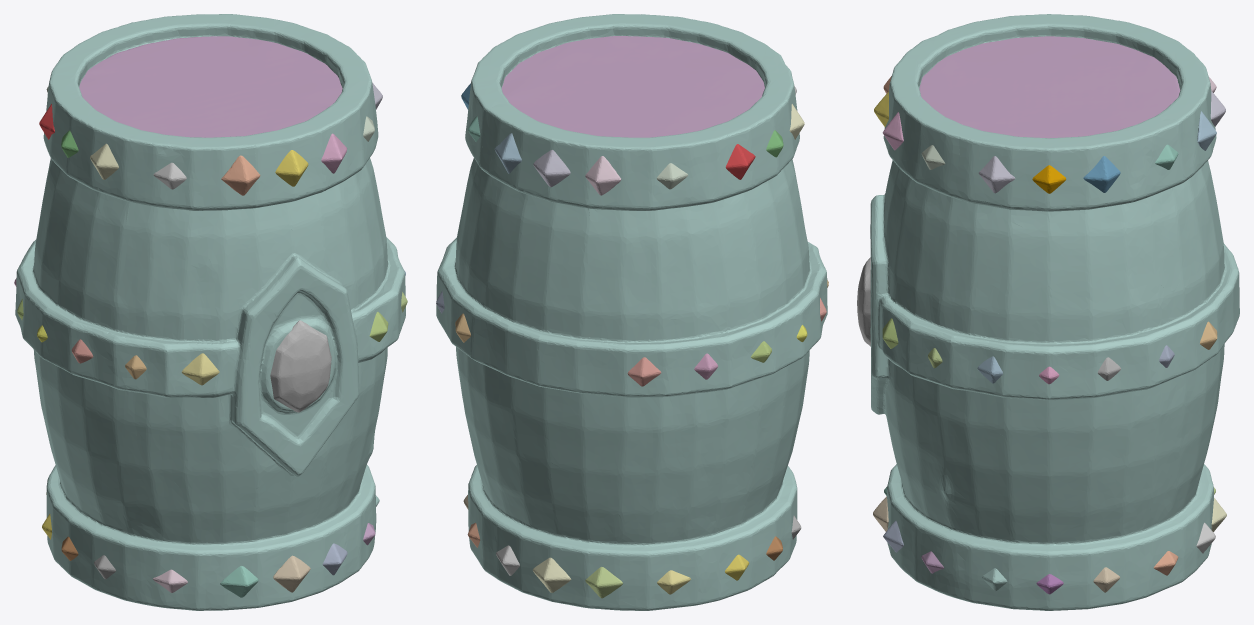
File: barrel.glb
3 renders of one model, left to right at view 1: azimuth 30°, elevation 25°; view 2: azimuth 150°, elevation 25°; view 3: azimuth 270°, elevation 25°, orthographic.
Parts seen in each view (by area): view 1: barrel_1.obj, barrel_1.obj_9, barrel_1.obj_48, barrel_1.obj_42, barrel_1.obj_47, barrel_1.obj_46, barrel_1.obj_41, barrel_1.obj_40, barrel_1.obj_30, barrel_1.obj_44, barrel_1.obj_37; view 2: barrel_1.obj, barrel_1.obj_9, barrel_1.obj_2, barrel_1.obj_7, barrel_1.obj_1, barrel_1.obj_6, barrel_1.obj_20, barrel_1.obj_4, barrel_1.obj_3; view 3: barrel_1.obj, barrel_1.obj_9, barrel_1.obj_48, barrel_1.obj_21, barrel_1.obj_31, barrel_1.obj_24.
Boxes of the visible parts, box(x1,y1,x2,y2) form: barrel_1.obj: box(15, 14, 405, 610); barrel_1.obj_9: box(79, 36, 342, 137); barrel_1.obj_48: box(270, 320, 331, 412); barrel_1.obj_42: box(221, 155, 260, 195); barrel_1.obj_47: box(273, 555, 310, 592); barrel_1.obj_46: box(275, 150, 308, 186); barrel_1.obj_41: box(220, 566, 258, 597); barrel_1.obj_40: box(181, 353, 219, 385); barrel_1.obj_30: box(90, 143, 118, 179); barrel_1.obj_44: box(321, 133, 347, 173); barrel_1.obj_37: box(153, 162, 186, 189); barrel_1.obj: box(436, 14, 827, 610); barrel_1.obj_9: box(501, 36, 764, 137); barrel_1.obj_2: box(533, 150, 570, 187); barrel_1.obj_7: box(585, 156, 621, 195); barrel_1.obj_1: box(532, 557, 571, 592); barrel_1.obj_6: box(585, 567, 622, 598); barrel_1.obj_20: box(725, 144, 755, 179); barrel_1.obj_4: box(494, 133, 521, 173); barrel_1.obj_3: box(627, 357, 661, 386); barrel_1.obj: box(870, 14, 1239, 610); barrel_1.obj_9: box(919, 36, 1180, 138); barrel_1.obj_48: box(857, 257, 870, 346); barrel_1.obj_21: box(1083, 156, 1120, 192); barrel_1.obj_31: box(978, 156, 1015, 193); barrel_1.obj_24: box(1032, 165, 1066, 193).
Bounding box in the file's own units: 1.5 × 1.91 × 1.43.
